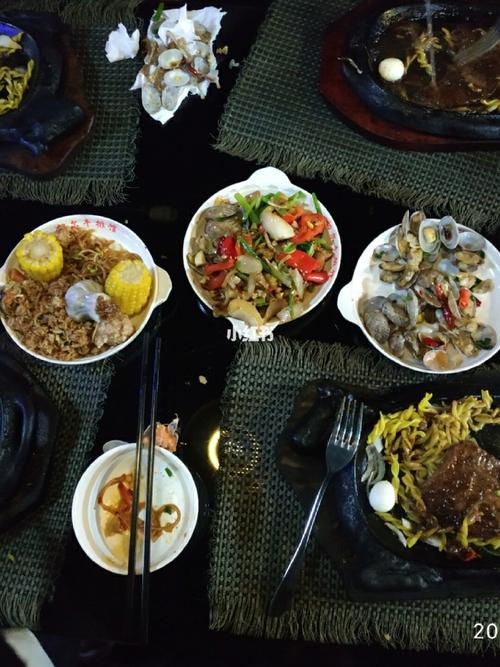food: (182, 160, 342, 332), (2, 202, 161, 365), (345, 205, 495, 376), (354, 385, 500, 549), (329, 2, 491, 148), (74, 424, 204, 570)
